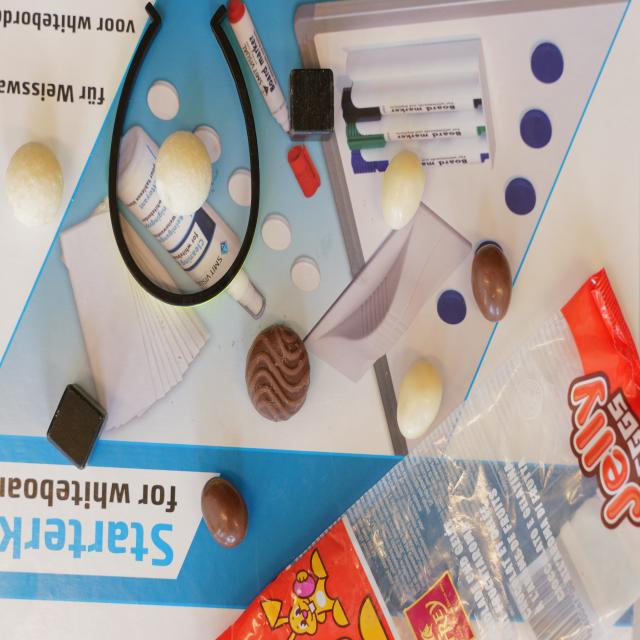Comtesse: (5, 139, 65, 228), (156, 131, 211, 215)
Jelly_Milk: (200, 473, 248, 548), (472, 242, 512, 321)
Jelly_White: (396, 357, 443, 441), (385, 149, 426, 232)
Noir_authentique: (246, 322, 310, 422)
